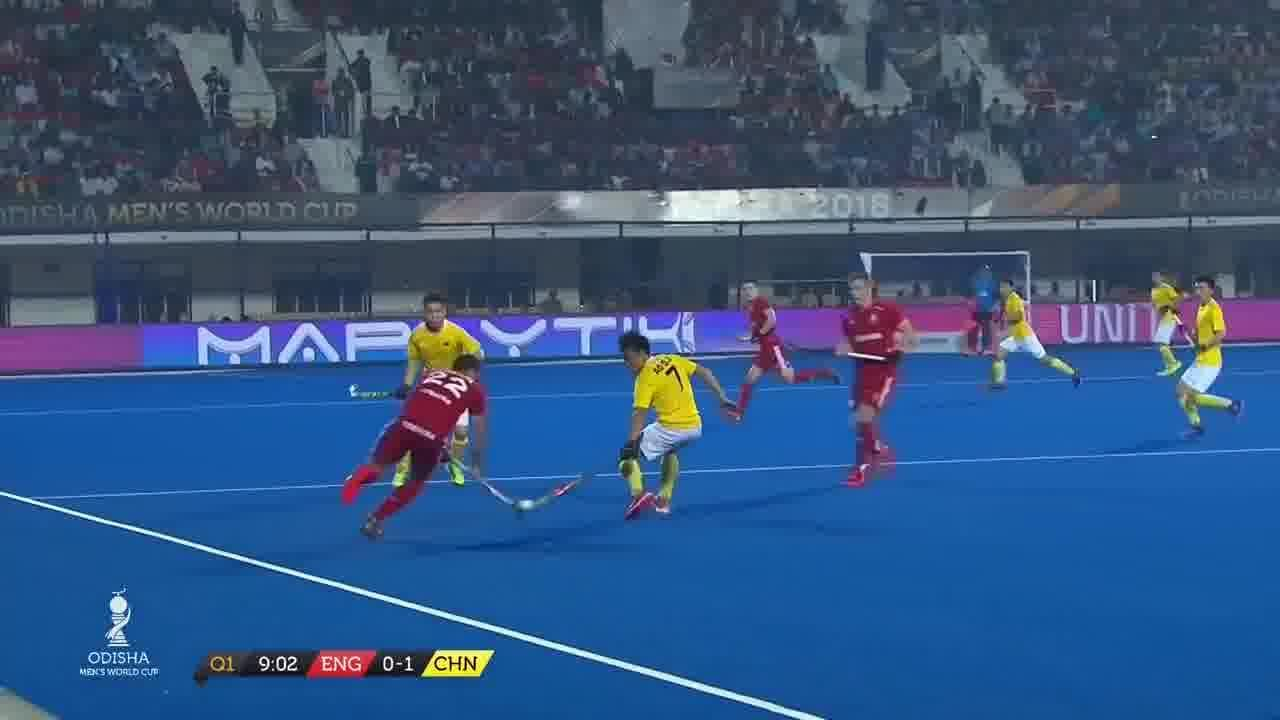ball: (514, 493, 540, 516)
